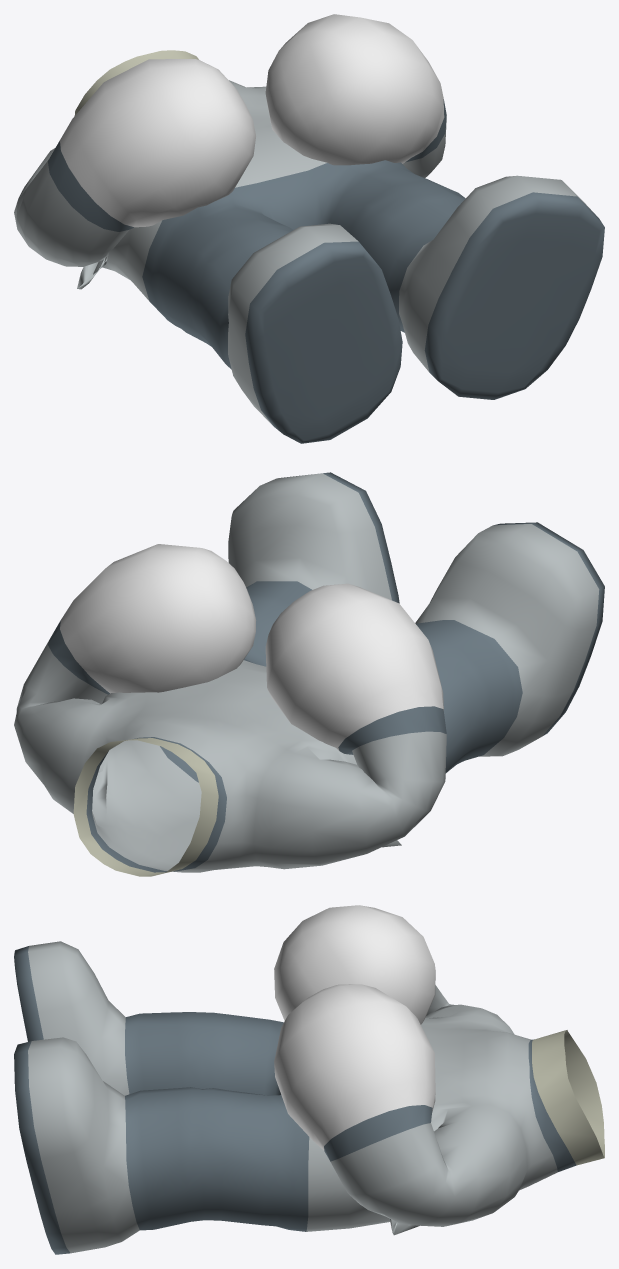
File: scene_human2.fbx
3 renders of one model, top to bottom at view 1: azimuth 30°, elevation 25°; view 2: azimuth 150°, elevation 25°; view 3: azimuth 270°, elevation 25°, orthographic. The views are drawn at different scales.
Visible parts, largest first — view 1: body_N1; view 2: body_N1; view 3: body_N1.
Part boxes in pixels (x1,y1,x2,y2): body_N1: (14,14,604,443); body_N1: (14,472,604,876); body_N1: (14,905,604,1254).
Size of the model in its own units: 95.36 by 59.12 by 125.
